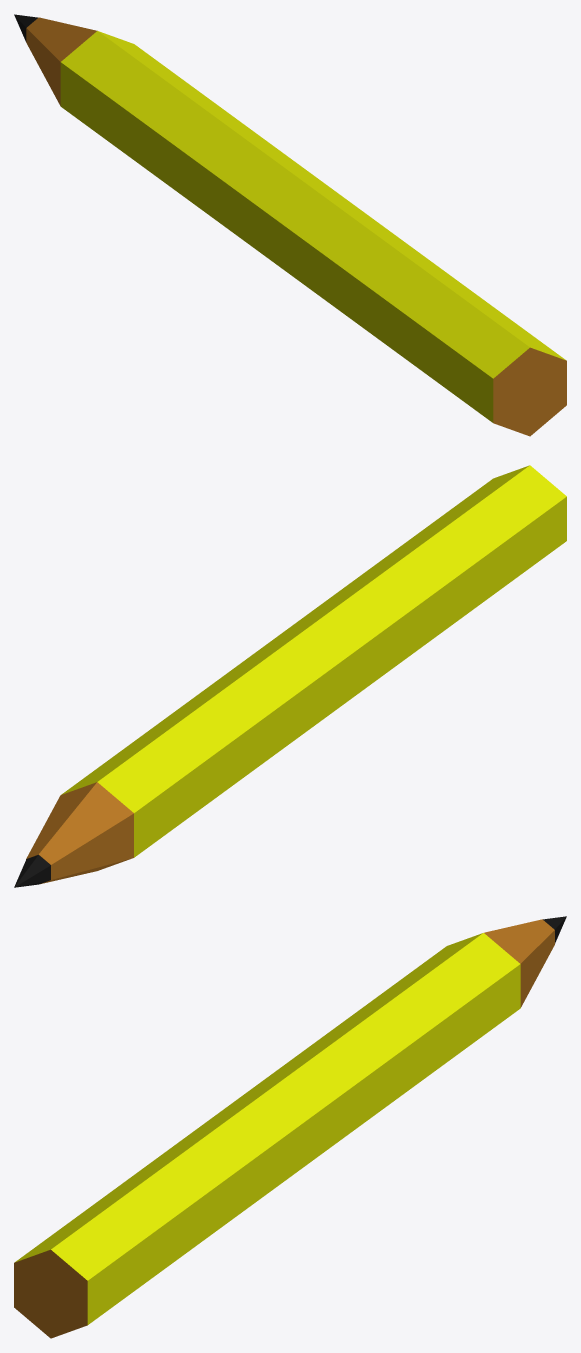
The model's file is Stift.fbx.
3 views of the same model, one above another, from view 1: azimuth 30°, elevation 25°; view 2: azimuth 150°, elevation 25°; view 3: azimuth 330°, elevation 25° (orthographic).
Visible parts, largest first — view 1: Cylinder; view 2: Cylinder; view 3: Cylinder.
Boxes of the visible parts, box(x1,y1,x2,y2) form: Cylinder: box(14, 14, 566, 436); Cylinder: box(14, 465, 566, 887); Cylinder: box(14, 916, 566, 1338).
Bounding box in the file's own units: 3.18 × 3.67 × 38.55.
